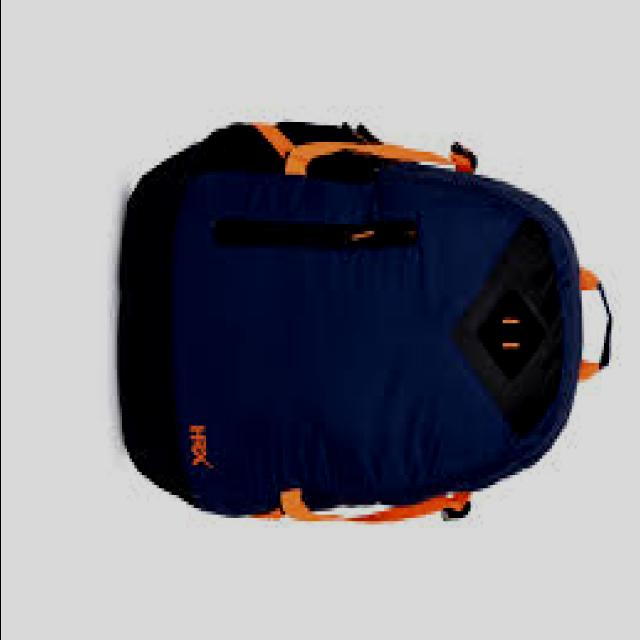backpack: (120, 120, 614, 526)
